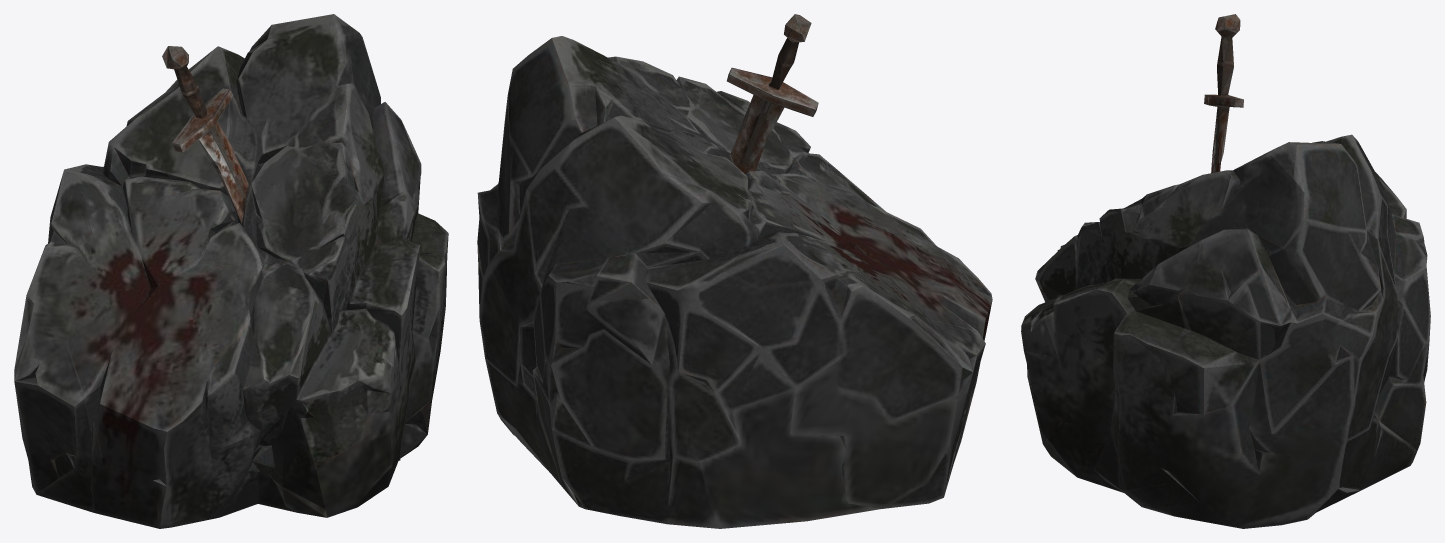
Rendered from prop-boulder.glb.
3 renders of one model, left to right at view 1: azimuth 30°, elevation 25°; view 2: azimuth 150°, elevation 25°; view 3: azimuth 270°, elevation 25°, orthographic. The views are drawn at different scales.
Bounding box in the file's own units: 1.9 × 1.78 × 1.65.
Materials: 1 (1 with a texture image).
